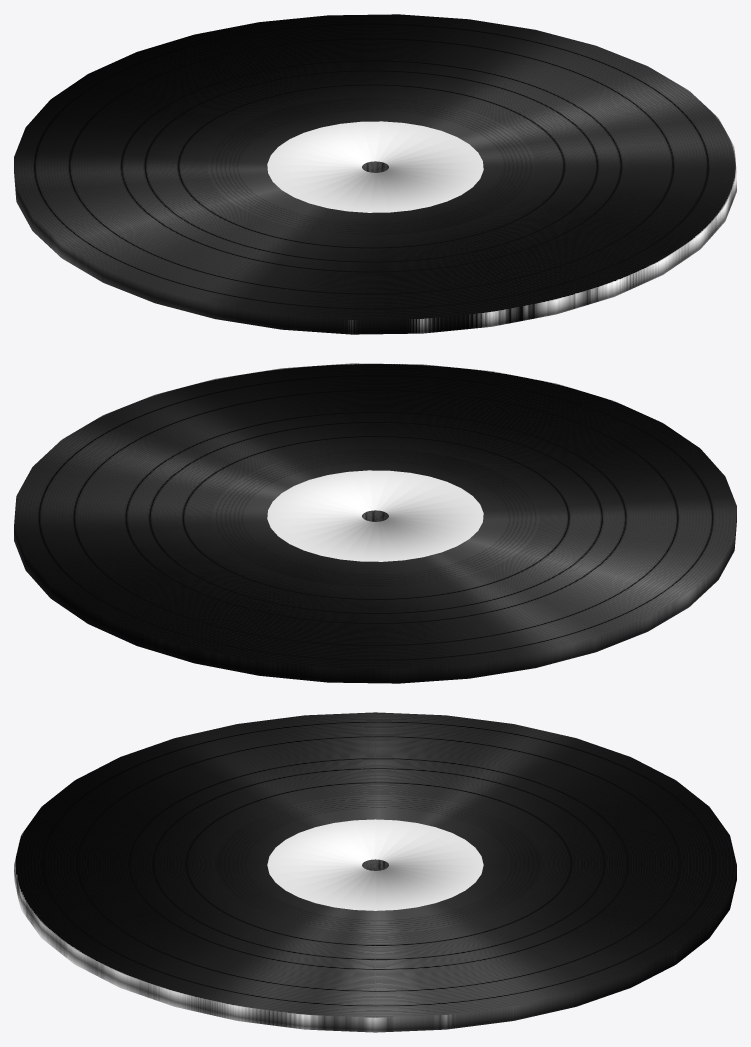
Rendered from record.fbx.
The picture shows the model from 3 angles, top to bottom: view 1: azimuth 30°, elevation 25°; view 2: azimuth 150°, elevation 25°; view 3: azimuth 270°, elevation 25°; orthographic projection.
Parts seen in each view (by area): view 1: Vinyl_Record; view 2: Vinyl_Record; view 3: Vinyl_Record.
Boxes of the visible parts, <box> form: Vinyl_Record: <box>14,14,736,334</box>; Vinyl_Record: <box>14,363,736,683</box>; Vinyl_Record: <box>14,712,736,1032</box>.
Bounding box in the file's own units: 2 × 0.0446 × 2.
